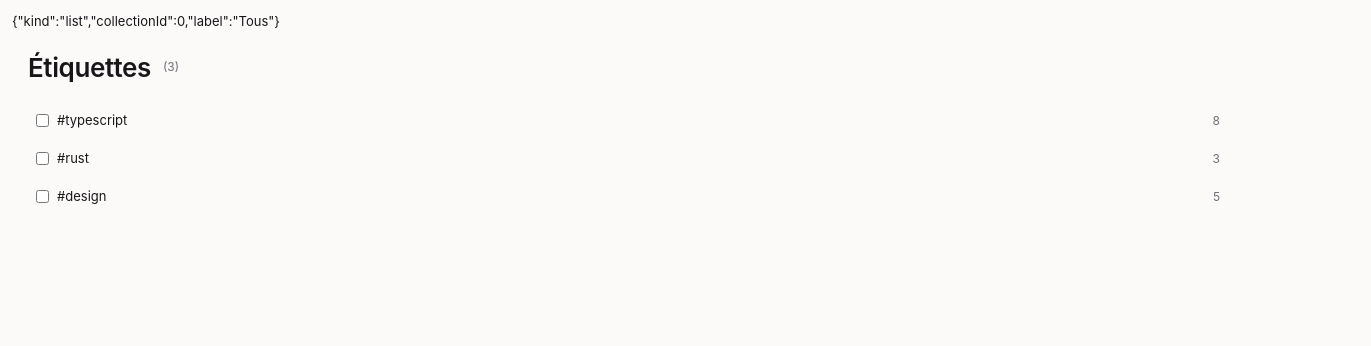
TagsView › échec de fusion : erreur inline, état conservé
Click the checkbox named "rust": (42,158) [36, 152, 49, 165]
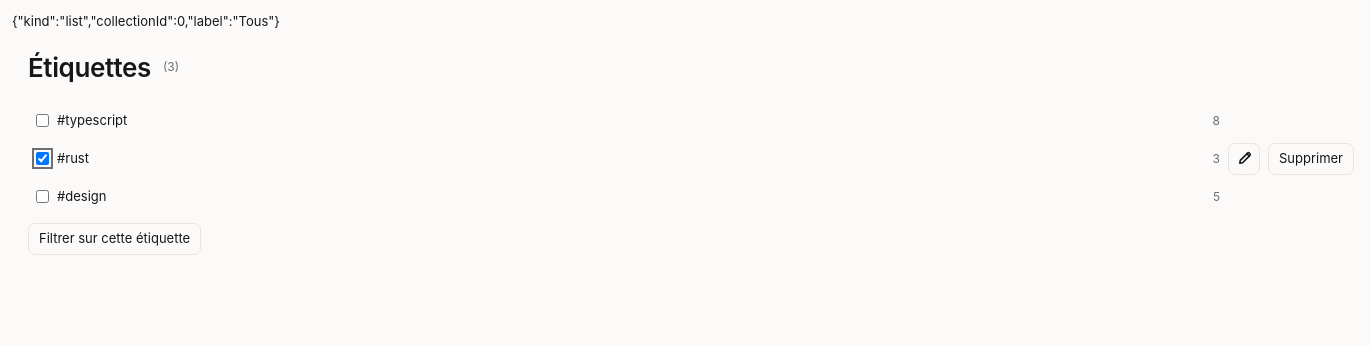
Click the checkbox named "design": (42,196) [36, 190, 49, 203]
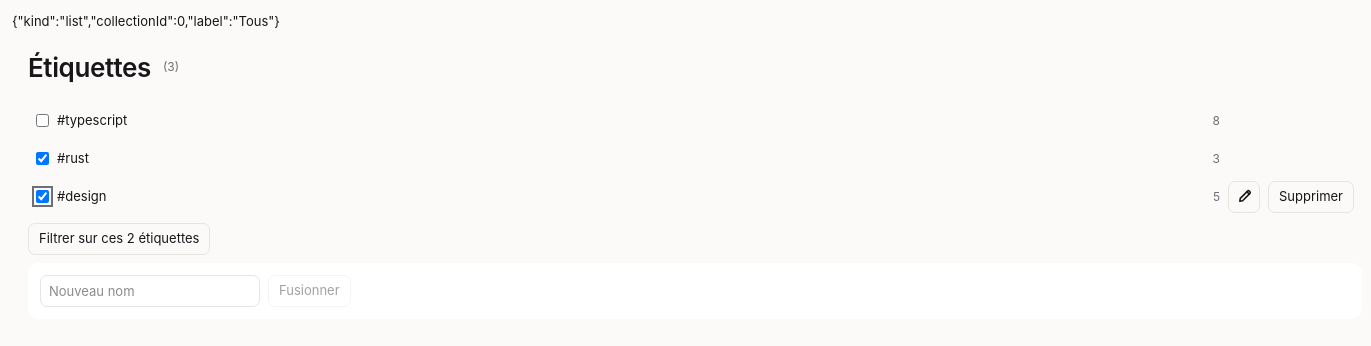
In the field with placeholder "Nouveau nom": (150,290) [40, 274, 260, 306], type "dev"
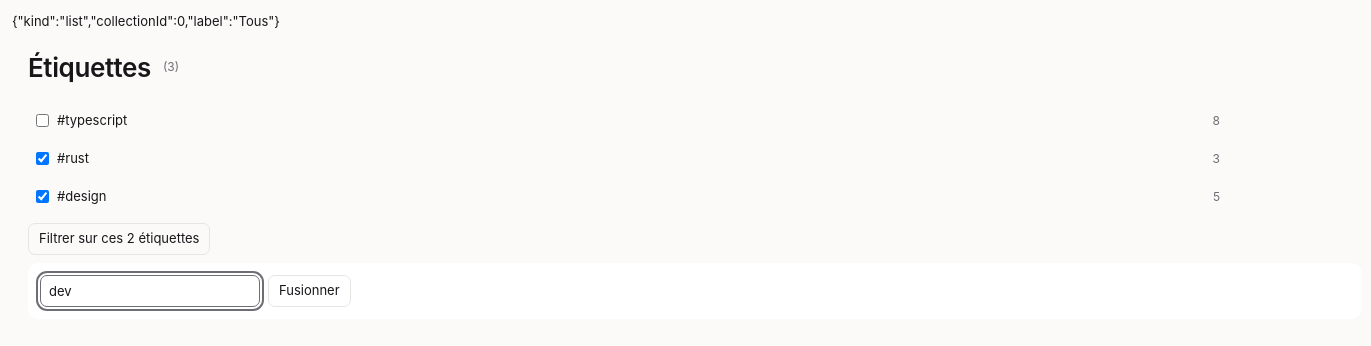
Click the button "Fusionner": (309,290) [268, 274, 351, 306]
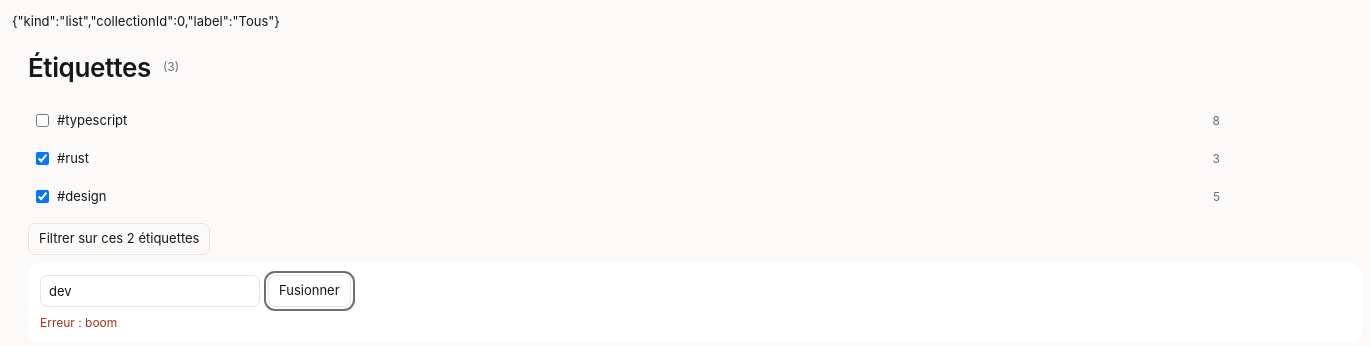
Result: the checkbox named "rust" is checked at [36, 152, 49, 165]
Result: the message reads "Erreur : boom" at [40, 314, 117, 330]
